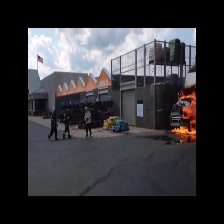fire: (169, 88, 196, 141)
